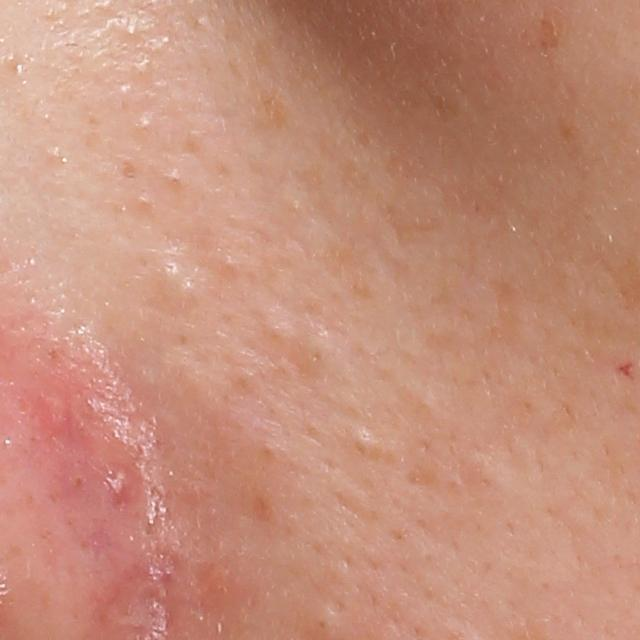comedo: (296, 328, 339, 376), (158, 163, 190, 190), (117, 17, 149, 44), (133, 107, 161, 137), (129, 186, 160, 213), (113, 75, 137, 102), (216, 248, 236, 279), (132, 56, 157, 79), (158, 261, 185, 282)
melasma: (252, 86, 296, 134)
papule: (105, 464, 140, 499)
